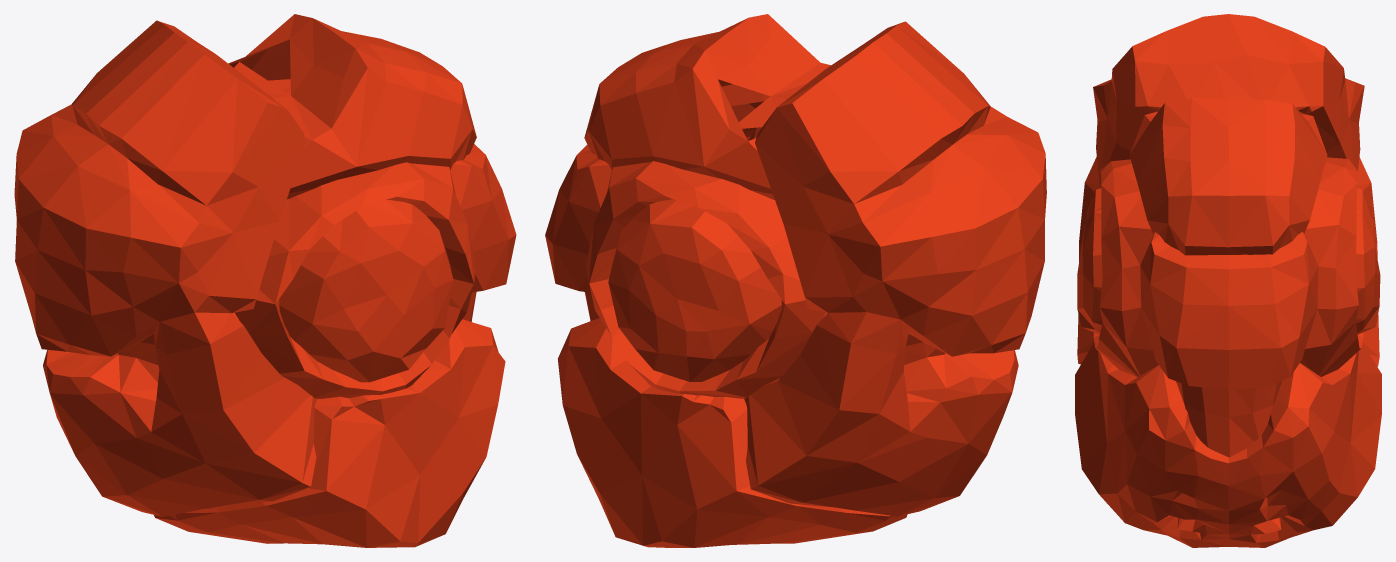
The model's file is small_glyph_05.glb.
The picture shows the model from 3 angles, left to right: view 1: azimuth 30°, elevation 25°; view 2: azimuth 150°, elevation 25°; view 3: azimuth 270°, elevation 25°; orthographic projection. The views are drawn at different scales.
Visible parts, largest first — view 1: mesh_node.005; view 2: mesh_node.005; view 3: mesh_node.005.
Boxes of the visible parts, bbox=[...] form: mesh_node.005: bbox=[14, 14, 516, 547]; mesh_node.005: bbox=[545, 14, 1046, 547]; mesh_node.005: bbox=[1075, 14, 1381, 547].
Size of the model in its own units: 0.2969 by 0.332 by 0.2012.
